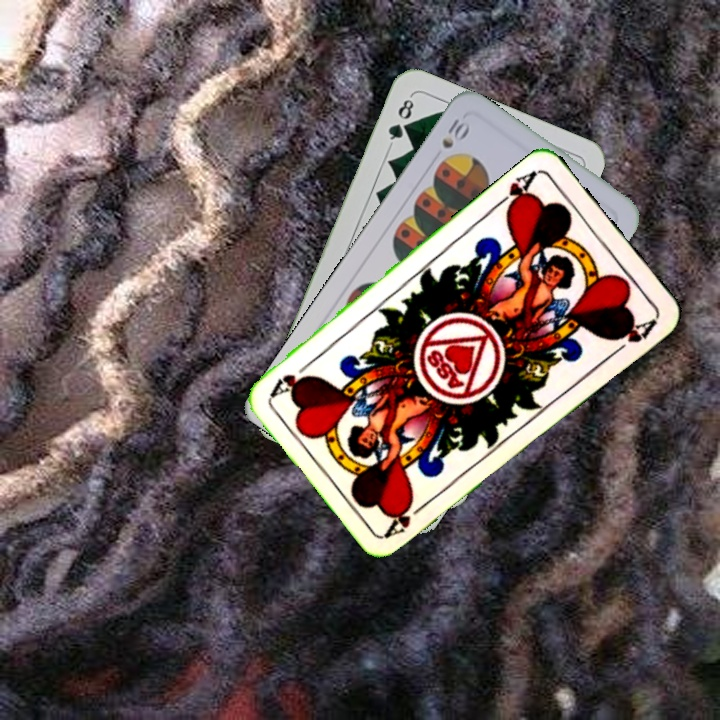G8: (384, 92, 417, 148)
HA: (491, 166, 540, 216), (382, 496, 432, 539)
S10: (437, 114, 473, 152)
